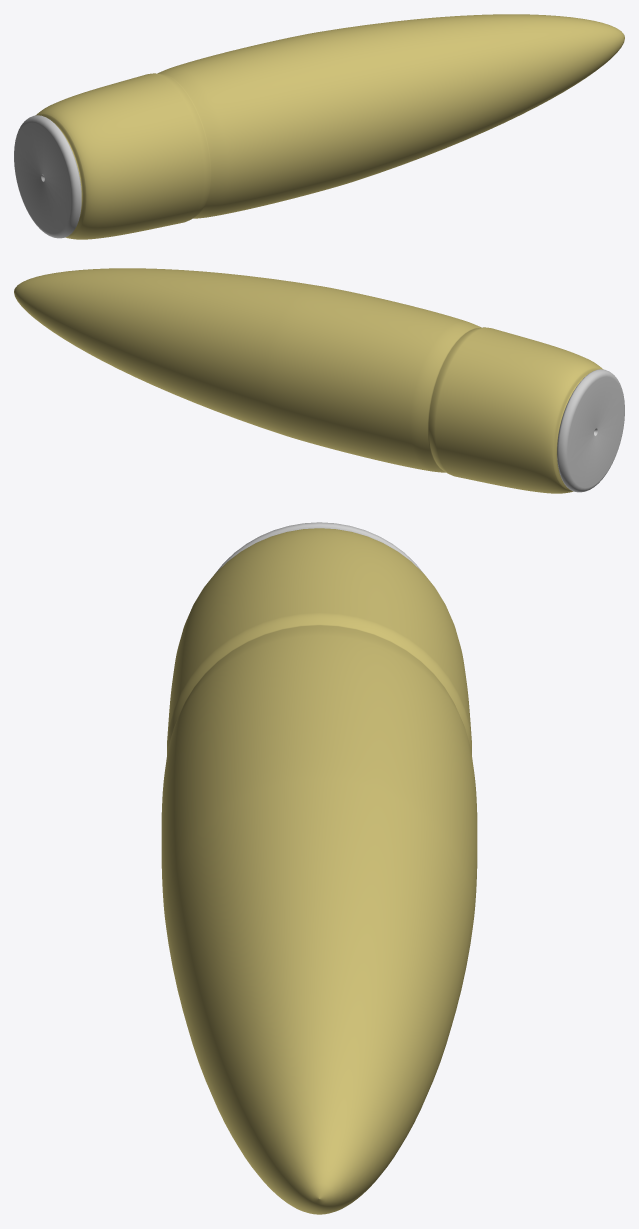
File: EnemyBullet.obj
3 renders of one model, top to bottom at view 1: azimuth 30°, elevation 25°; view 2: azimuth 150°, elevation 25°; view 3: azimuth 270°, elevation 25°, orthographic. The views are drawn at different scales.
Visible parts, largest first — view 1: EnemyBullet_Bullet.001; view 2: EnemyBullet_Bullet.001; view 3: EnemyBullet_Bullet.001.
Boxes of the visible parts, left/top/right/bottom form: EnemyBullet_Bullet.001: left=14, top=14, right=624, bottom=239; EnemyBullet_Bullet.001: left=14, top=268, right=624, bottom=493; EnemyBullet_Bullet.001: left=161, top=522, right=477, bottom=1214.
Bounding box in the file's own units: 0.135 × 0.0318 × 0.0318.
